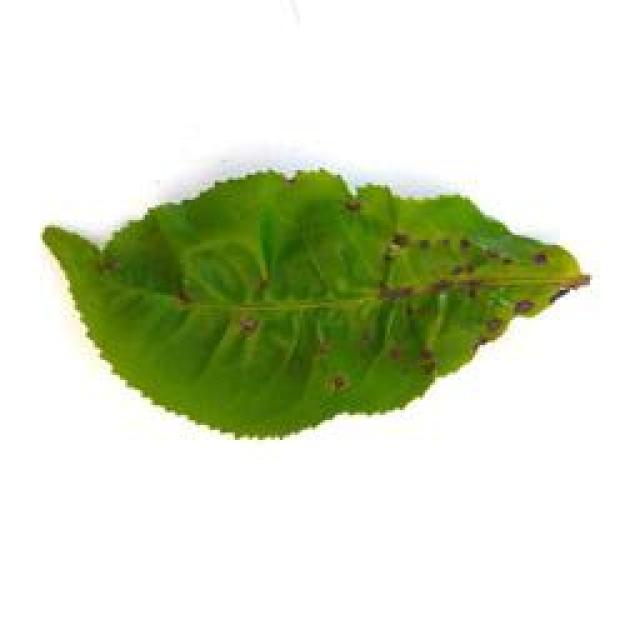Helopeltis: (43, 168, 598, 442)
